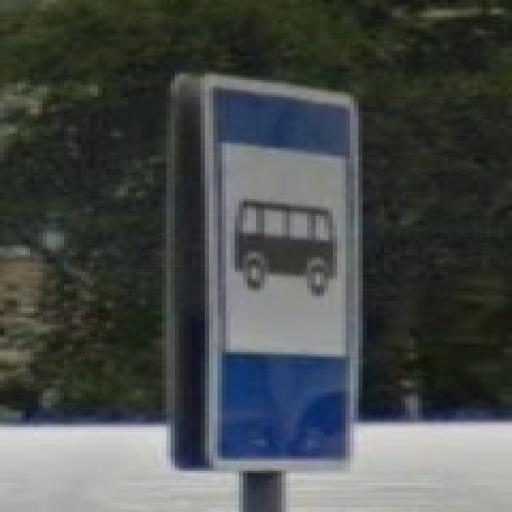traffic_sign: (193, 72, 368, 475)
